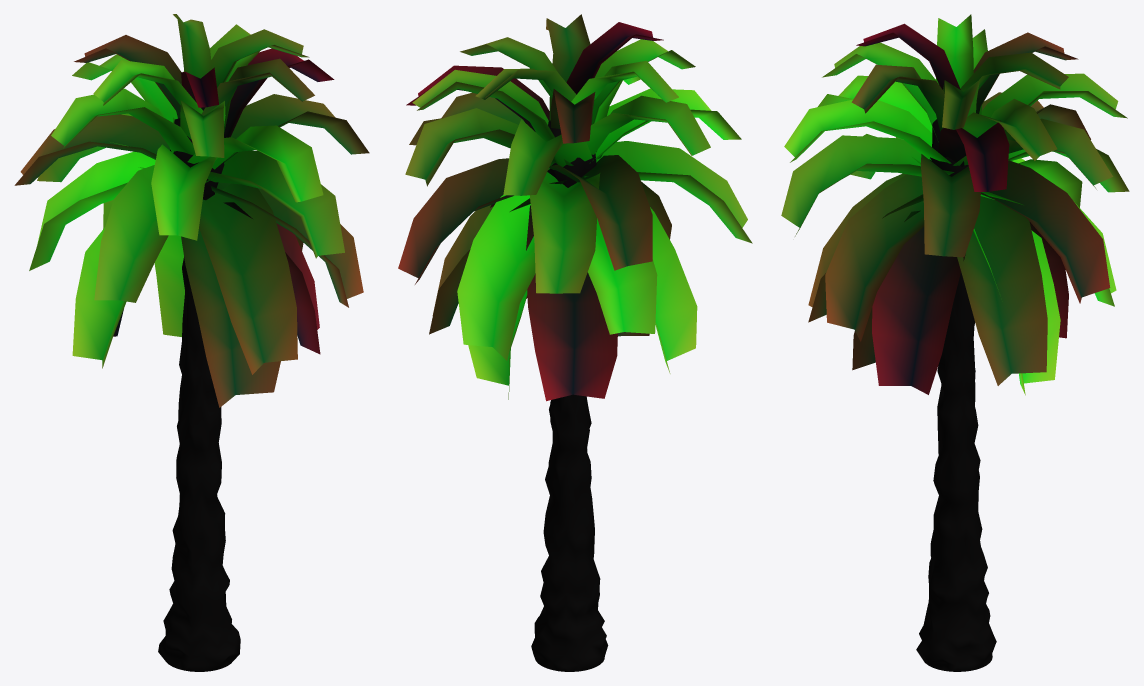
Rendered from SM_Palm5_4.fbx.
3 views of the same model, side by side, from view 1: azimuth 30°, elevation 25°; view 2: azimuth 150°, elevation 25°; view 3: azimuth 270°, elevation 25° (orthographic).
Parts seen in each view (by area): view 1: SM_Palm5_4; view 2: SM_Palm5_4; view 3: SM_Palm5_4.
Boxes of the visible parts, box(x1,y1,x2,y2) form: SM_Palm5_4: box(14, 14, 369, 671); SM_Palm5_4: box(398, 14, 752, 671); SM_Palm5_4: box(781, 14, 1129, 671).
Bounding box in the file's own units: 850 × 1659 × 850.
